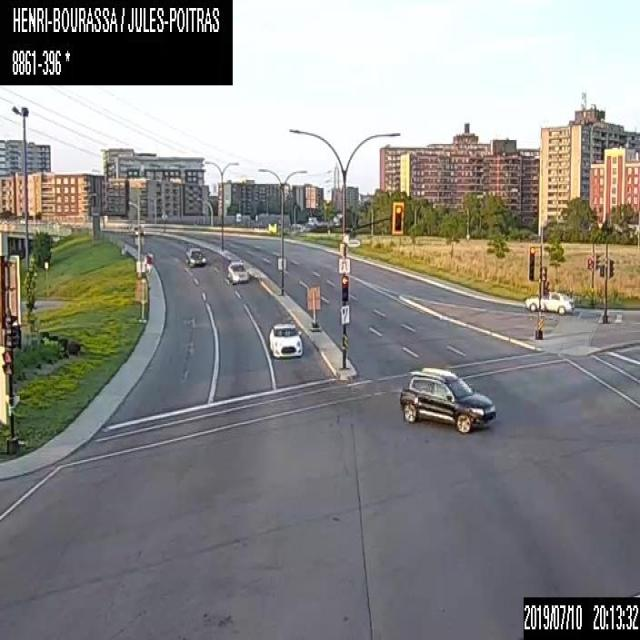vehicle: (399, 366, 496, 434), (267, 320, 302, 357), (522, 290, 574, 314), (226, 258, 248, 282), (182, 245, 205, 267), (130, 225, 145, 236)
